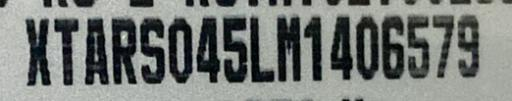letter: (20, 15, 54, 86), (220, 10, 250, 87), (246, 13, 276, 88), (82, 14, 112, 87), (165, 14, 195, 87), (274, 13, 304, 84), (109, 15, 139, 86), (138, 15, 168, 86), (328, 12, 356, 85), (194, 14, 222, 87), (52, 16, 80, 87), (404, 13, 432, 80), (354, 12, 380, 83), (429, 12, 455, 83), (380, 13, 406, 82), (456, 9, 480, 82), (302, 12, 326, 85)
